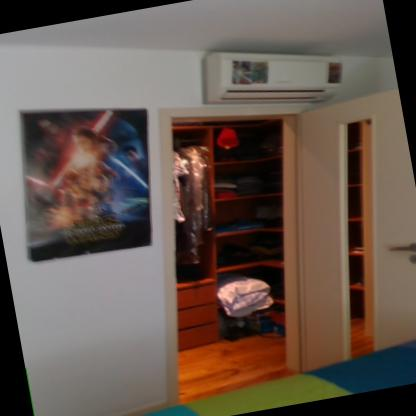open: (136, 72, 415, 396)
